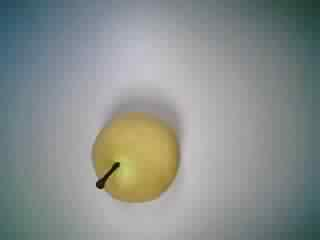pear: (79, 107, 186, 219)
